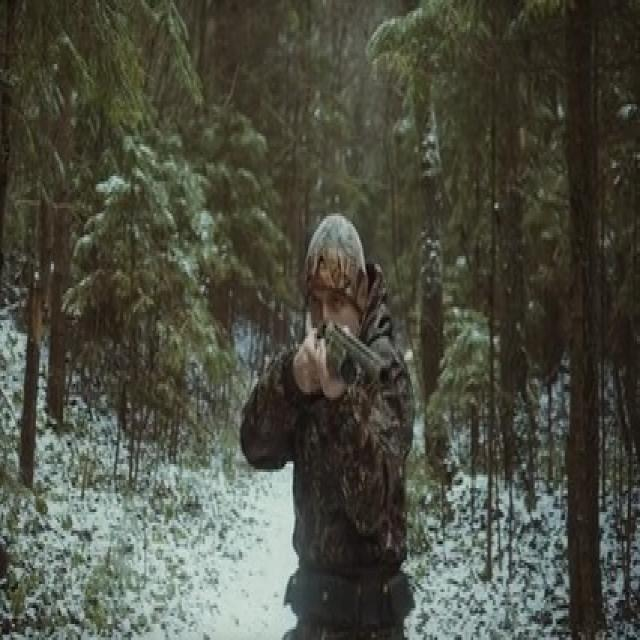Gun_Holder: (286, 310, 391, 393)
Person: (240, 210, 414, 640)
